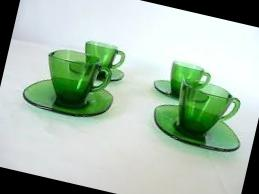glass: (27, 37, 112, 113), (160, 69, 241, 142), (151, 54, 208, 101), (78, 36, 120, 75)
